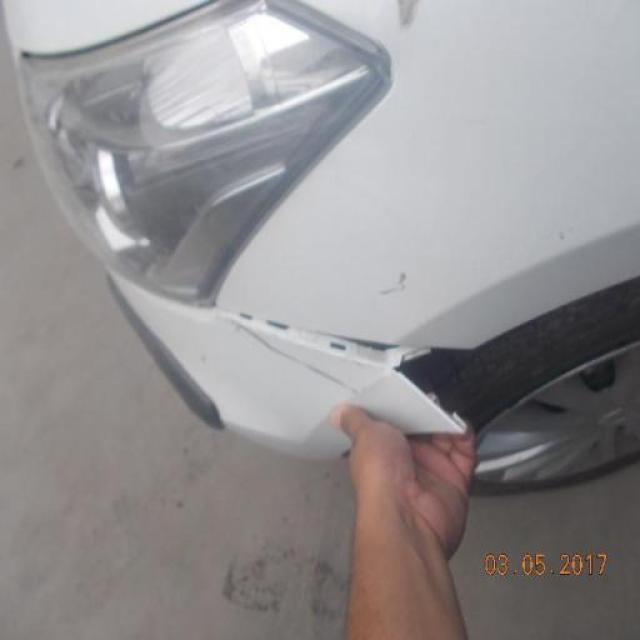misalignment: (225, 312, 484, 432)
scratch: (377, 264, 412, 302)
